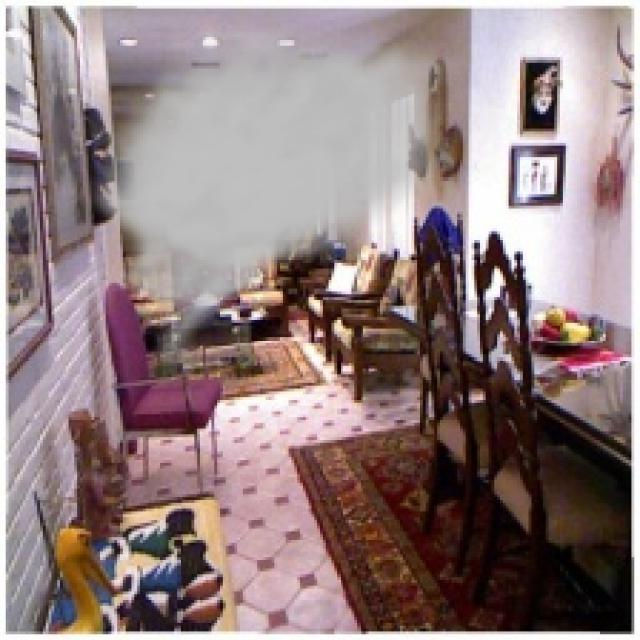smoke: (77, 20, 474, 377)
